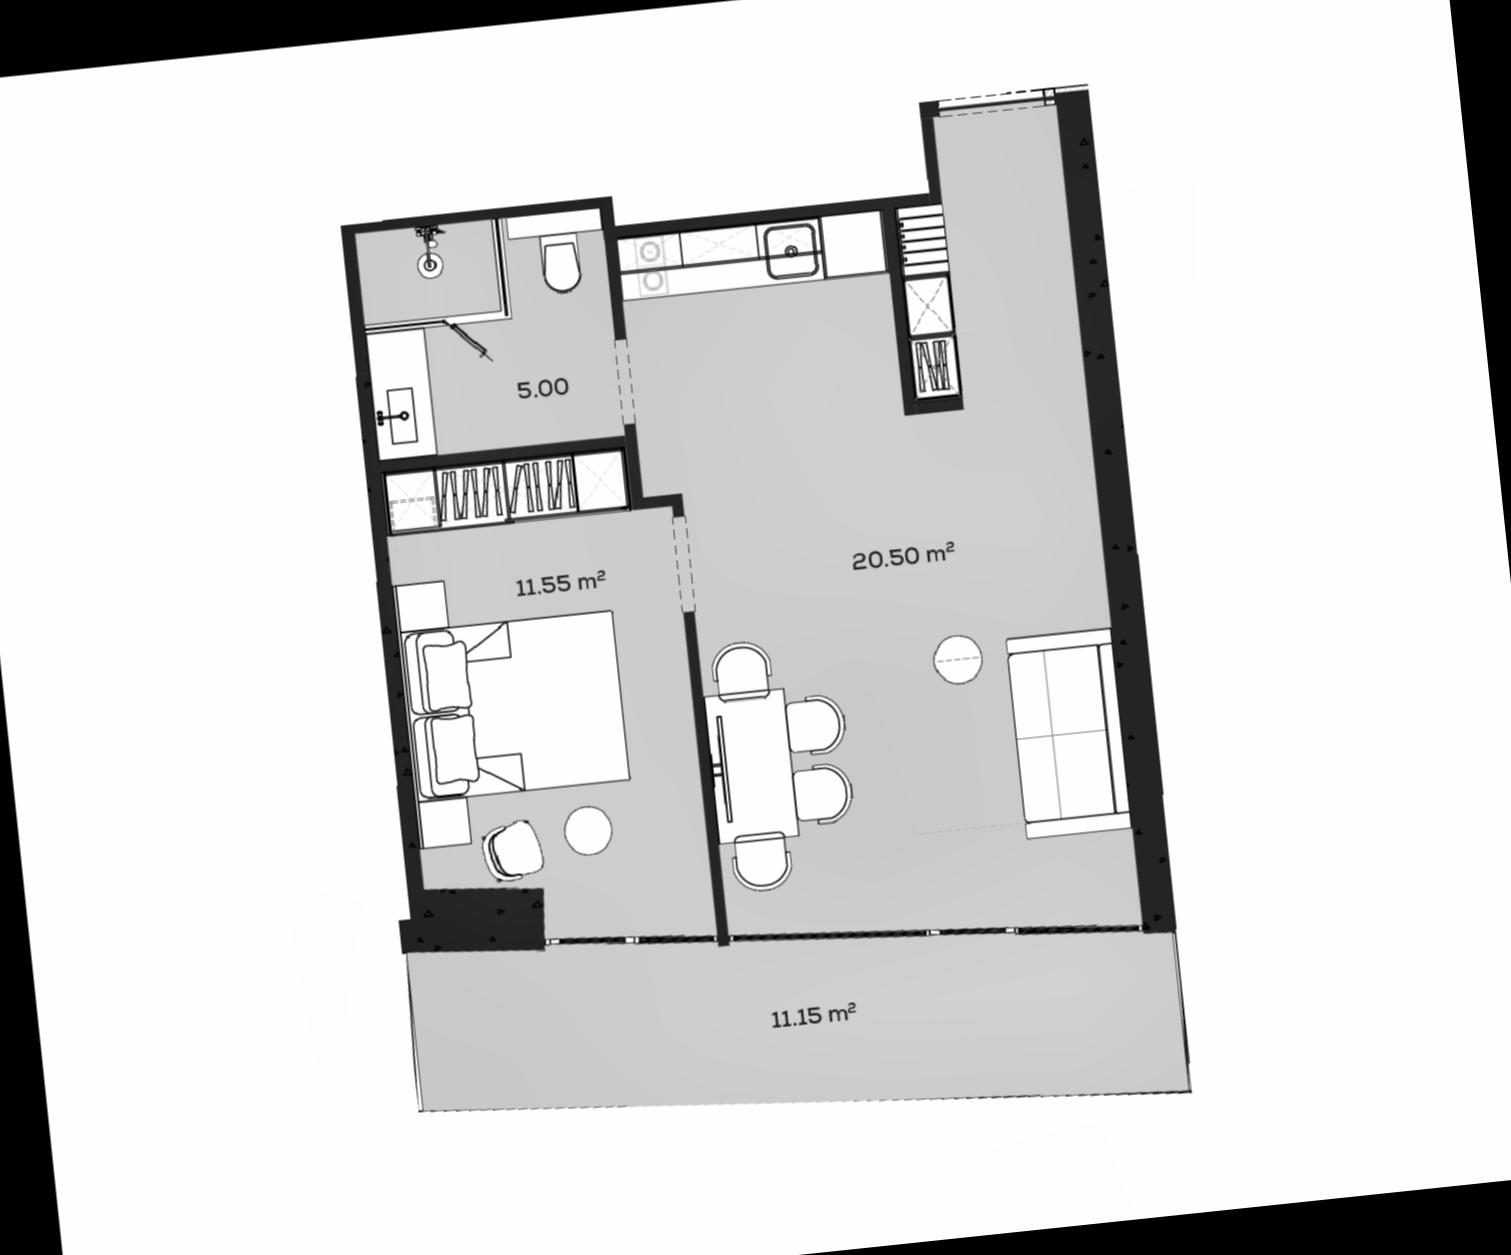door: (434, 303, 518, 372), (930, 78, 1058, 122), (664, 507, 705, 625), (608, 332, 642, 434)
